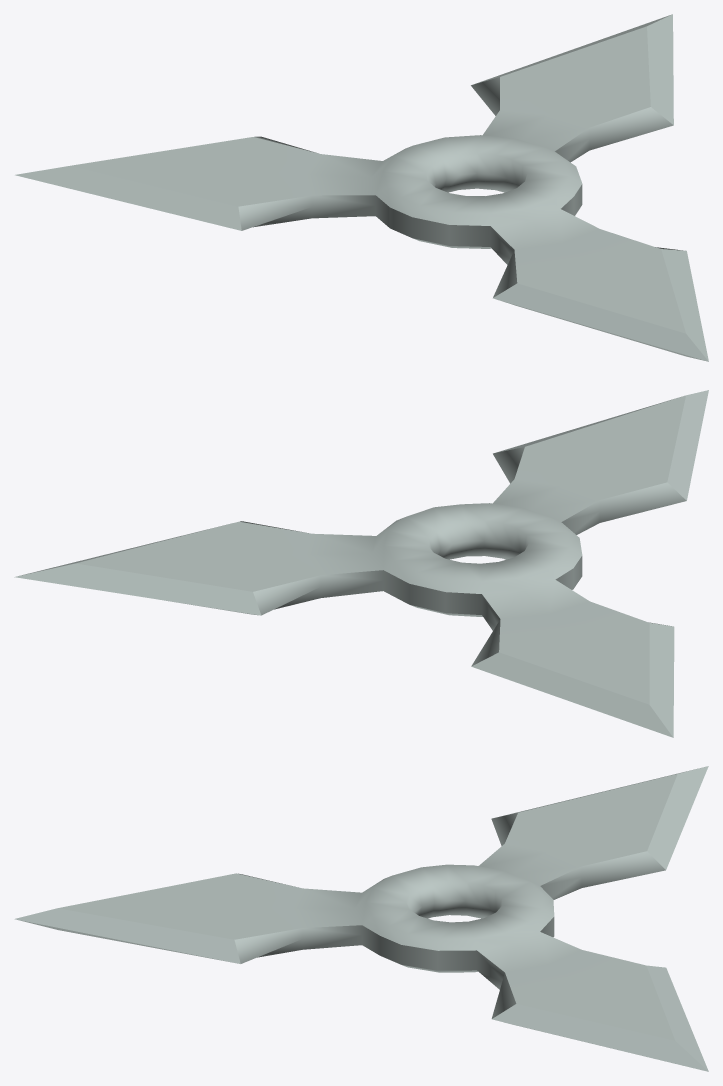
The model's file is Shuriken 2.fbx.
3 views of the same model, one above another, from view 1: azimuth 30°, elevation 25°; view 2: azimuth 150°, elevation 25°; view 3: azimuth 270°, elevation 25° (orthographic). The views are drawn at different scales.
Visible parts, largest first — view 1: Shuriken 2; view 2: Shuriken 2; view 3: Shuriken 2.
Part boxes in pixels (<box>): Shuriken 2: <box>15,14,708,361</box>; Shuriken 2: <box>14,390,708,737</box>; Shuriken 2: <box>14,766,708,1071</box>.
Bounding box in the file's own units: 0.4265 × 0.0218 × 0.4094.
